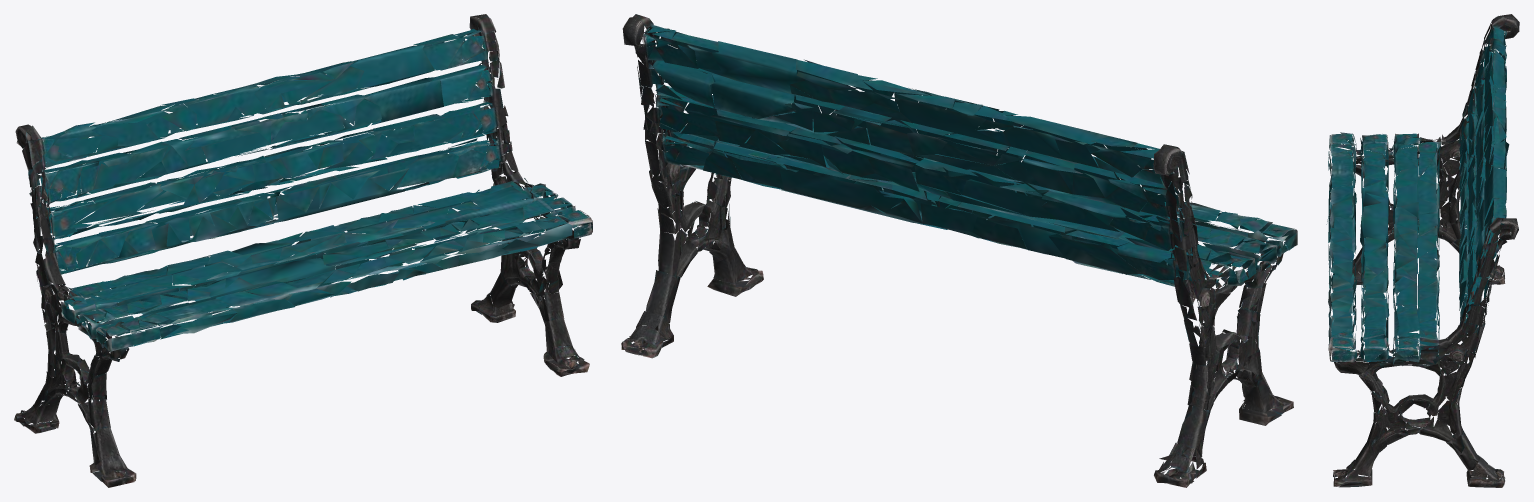
File: bench.glb
The picture shows the model from 3 angles, left to right: view 1: azimuth 30°, elevation 25°; view 2: azimuth 150°, elevation 25°; view 3: azimuth 270°, elevation 25°; orthographic projection. The views are drawn at different scales.
Visible parts, largest first — view 1: Mesh_0; view 2: Mesh_0; view 3: Mesh_0.
Part boxes in pixels (bbox=[...]): Mesh_0: bbox=[14, 14, 592, 487]; Mesh_0: bbox=[621, 14, 1297, 487]; Mesh_0: bbox=[1326, 14, 1519, 487].
Size of the model in its own units: 1.9 by 1.09 by 0.7189.
1 material, 1 textured.
